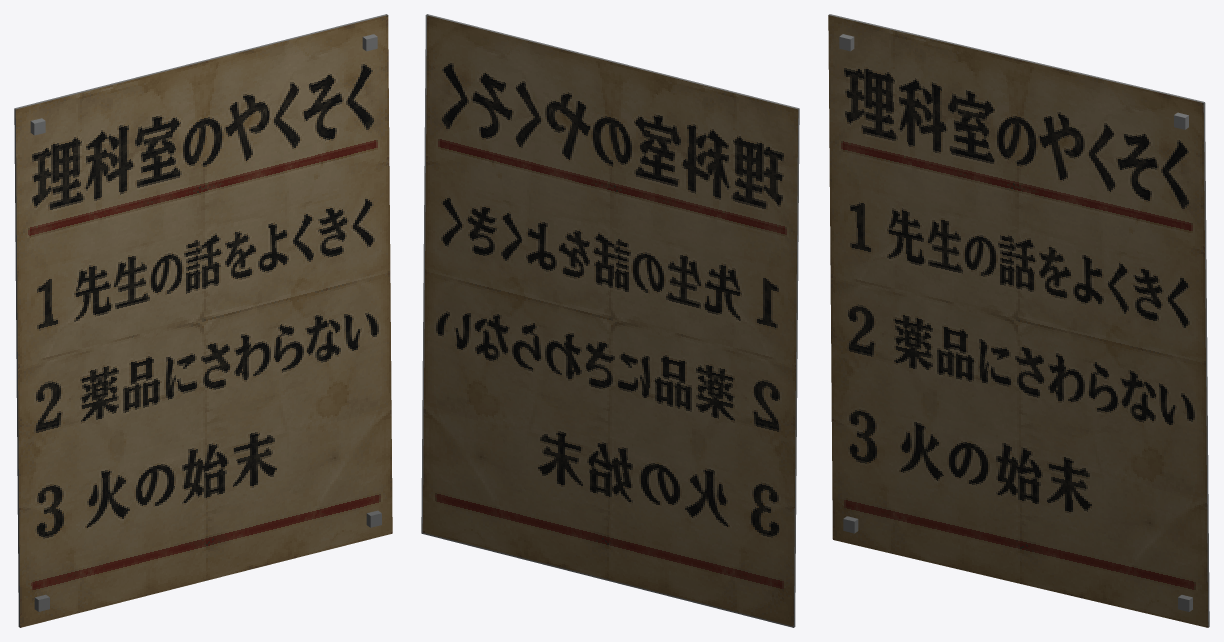
The model's file is prop_poster-rika-0.glb.
3 renders of one model, left to right at view 1: azimuth 30°, elevation 25°; view 2: azimuth 150°, elevation 25°; view 3: azimuth 330°, elevation 25°, orthographic.
Visible parts, largest first — view 1: prop_poster-rika-0; view 2: prop_poster-rika-0; view 3: prop_poster-rika-0.
Boxes of the visible parts, bbox=[...] form: prop_poster-rika-0: bbox=[14, 14, 392, 627]; prop_poster-rika-0: bbox=[421, 14, 799, 627]; prop_poster-rika-0: bbox=[828, 14, 1209, 627].
Bounding box in the file's own units: 0.4663 × 0.6185 × 0.0115.
2 materials, 2 textured.
